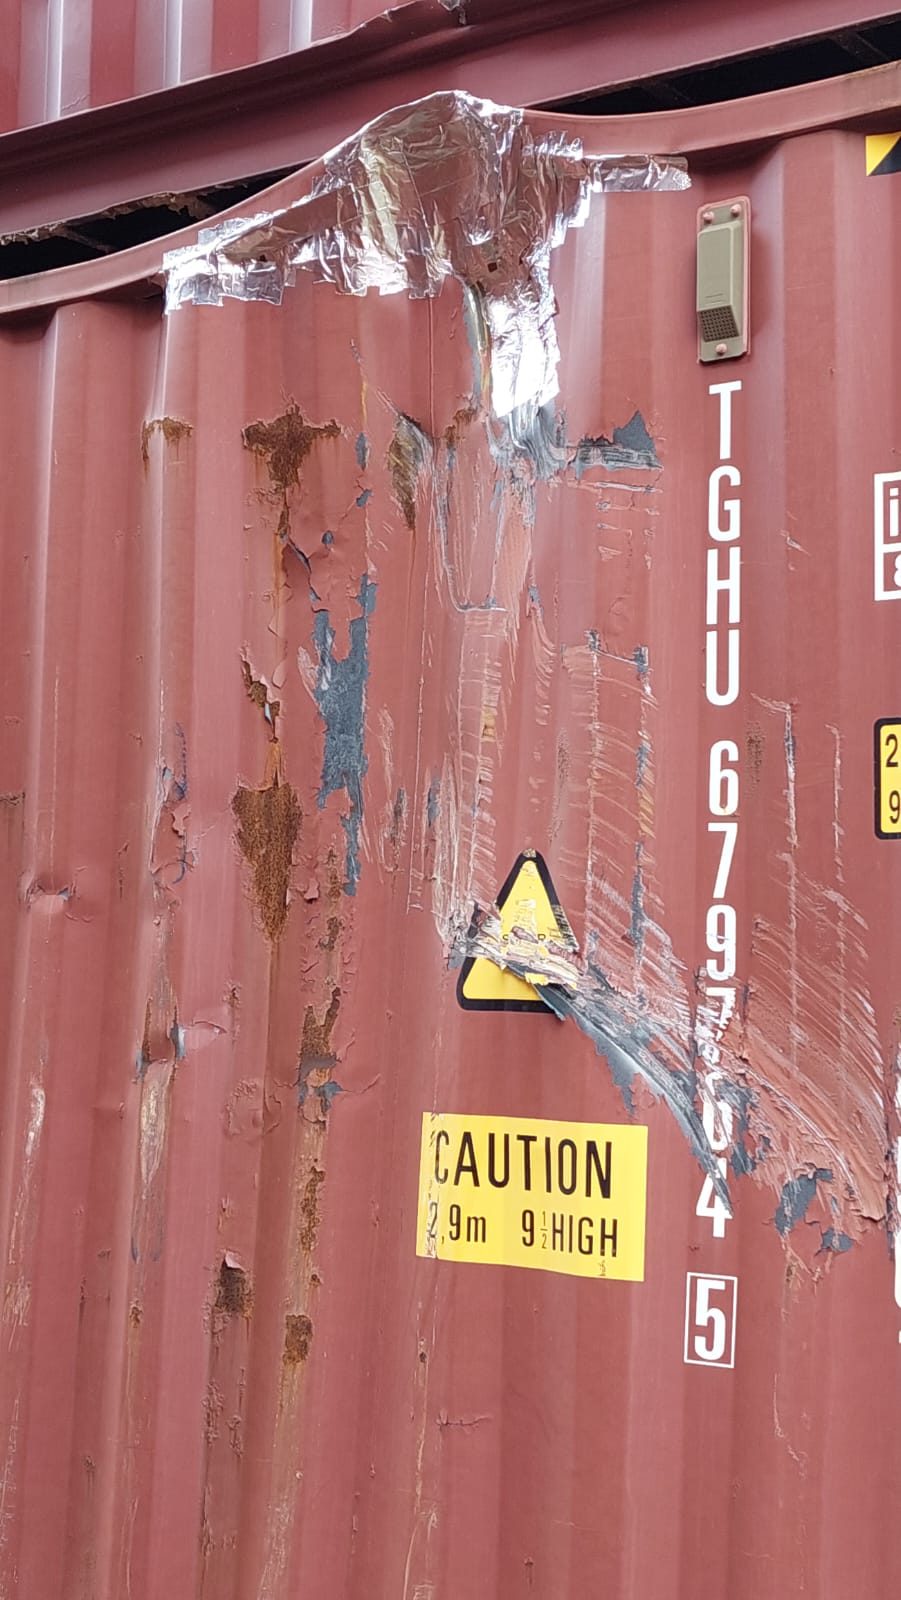dented: (174, 98, 718, 457)
rust: (116, 364, 366, 1308)
